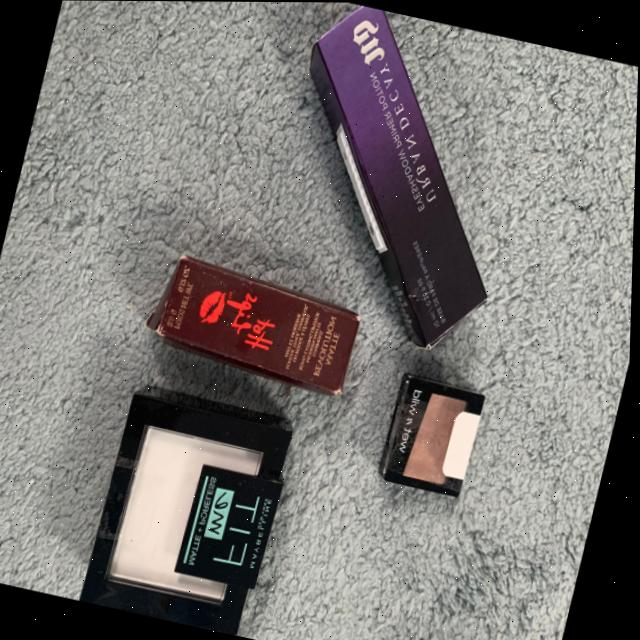concealer: (354, 346, 509, 528)
lip stick: (123, 243, 381, 408)
powder: (60, 362, 319, 639)
primer: (239, 1, 556, 364)
